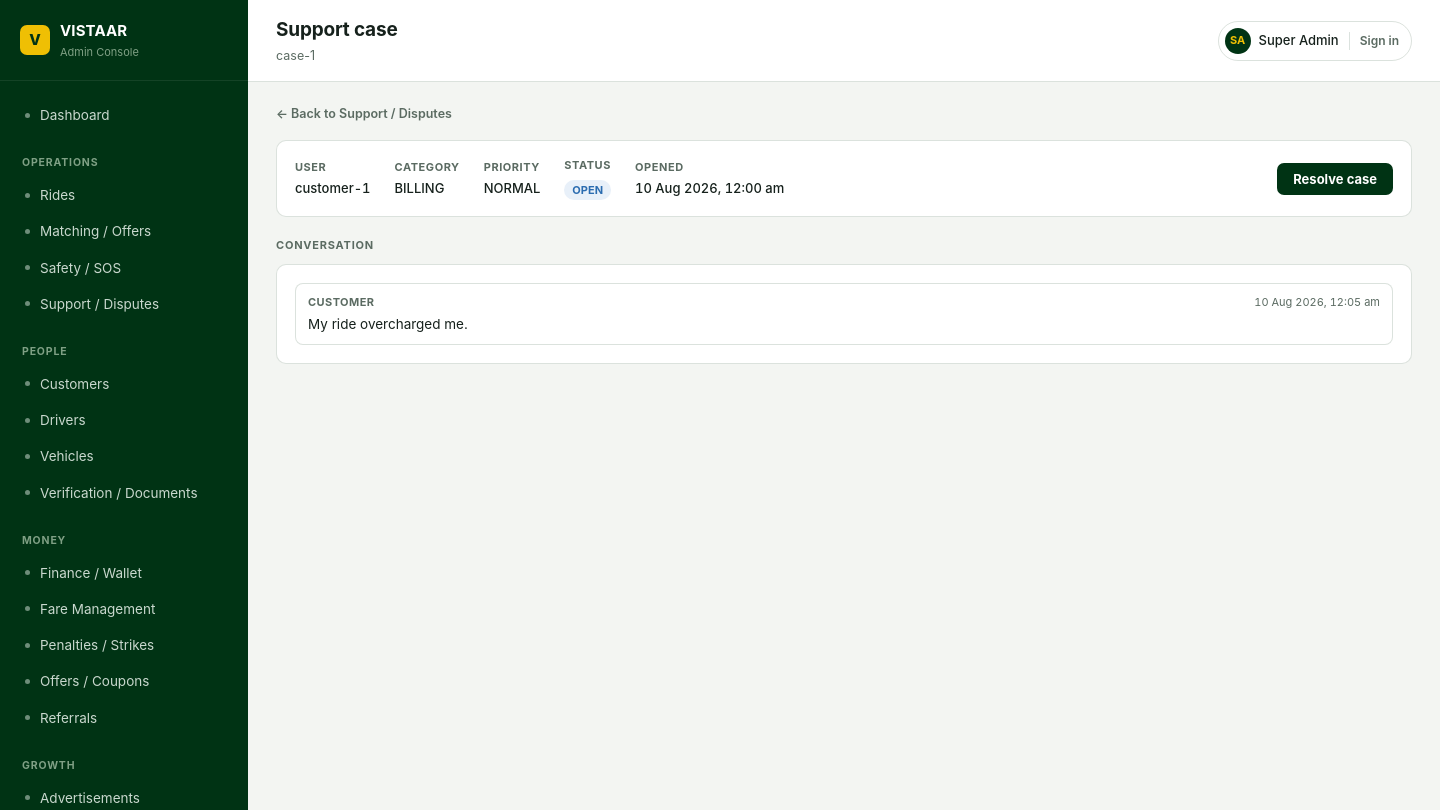
Scenario: CaseDetailPage › resolves an open case
What coordinates should you click on to do the following:
click the button "Resolve case"
I would click on:
 (1335, 178)
Its box is 1277,162 -> 1393,194.
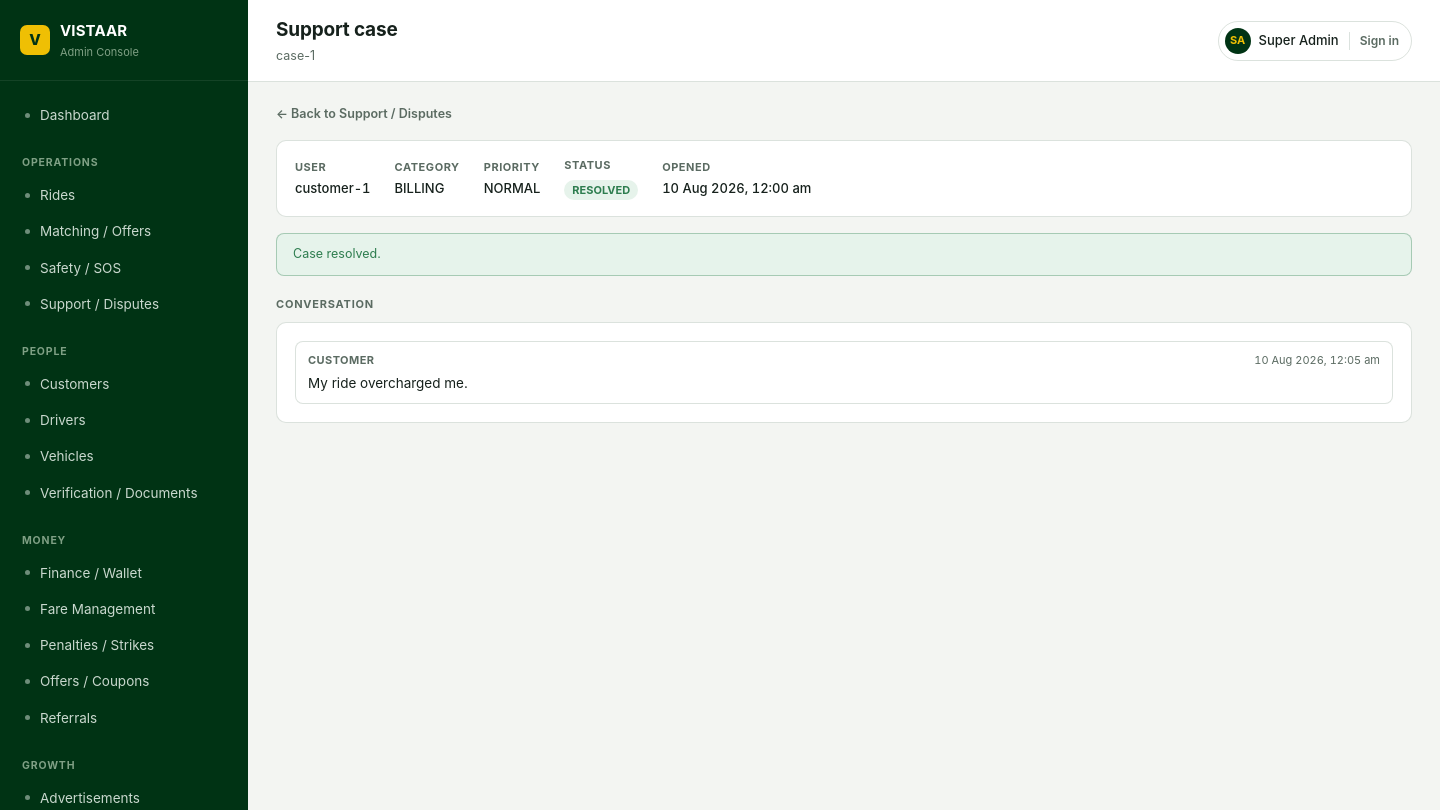
Check: the text "Case resolved." is shown, box 276,233 -> 1412,276
Check: the button "Resolve case" is gone
